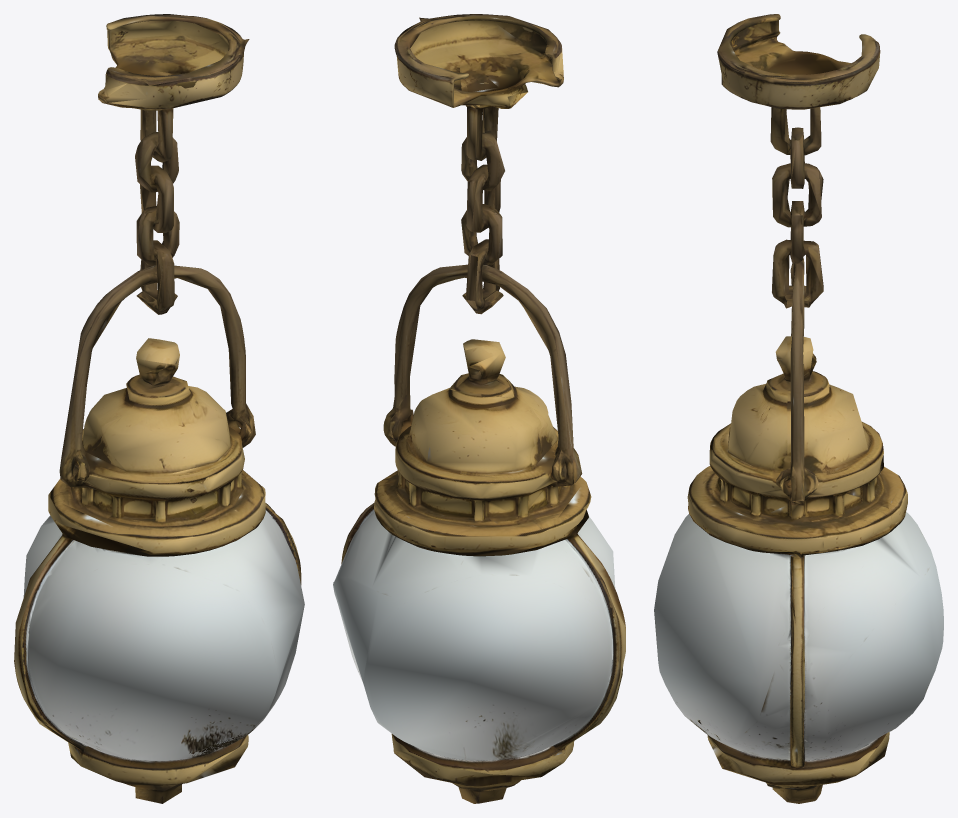
The model's file is lhi_pendant_lamp.glb.
3 renders of one model, left to right at view 1: azimuth 30°, elevation 25°; view 2: azimuth 150°, elevation 25°; view 3: azimuth 270°, elevation 25°, orthographic.
Parts seen in each view (by area): view 1: material; view 2: material; view 3: material.
Part boxes in pixels (box(x1,y1,x2,y2)): material: box(14, 14, 304, 803); material: box(333, 14, 625, 803); material: box(654, 14, 943, 803).
Bounding box in the file's own units: 0.4616 × 1.16 × 0.4056.
Materials: 1 (1 with a texture image).
